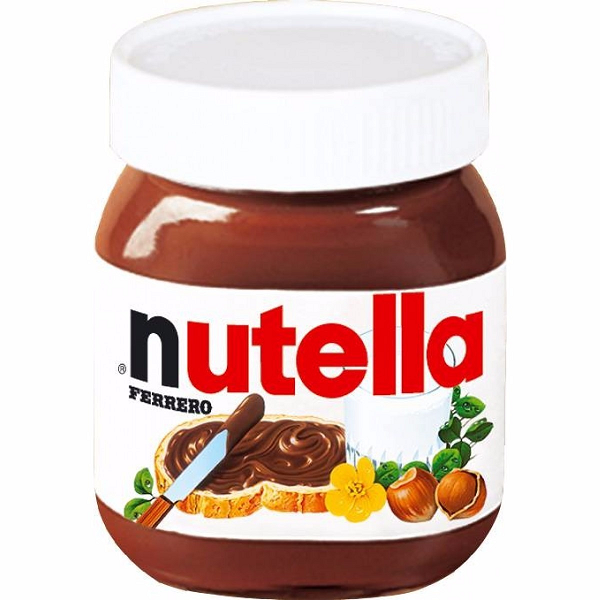nutella: (88, 1, 509, 597)
